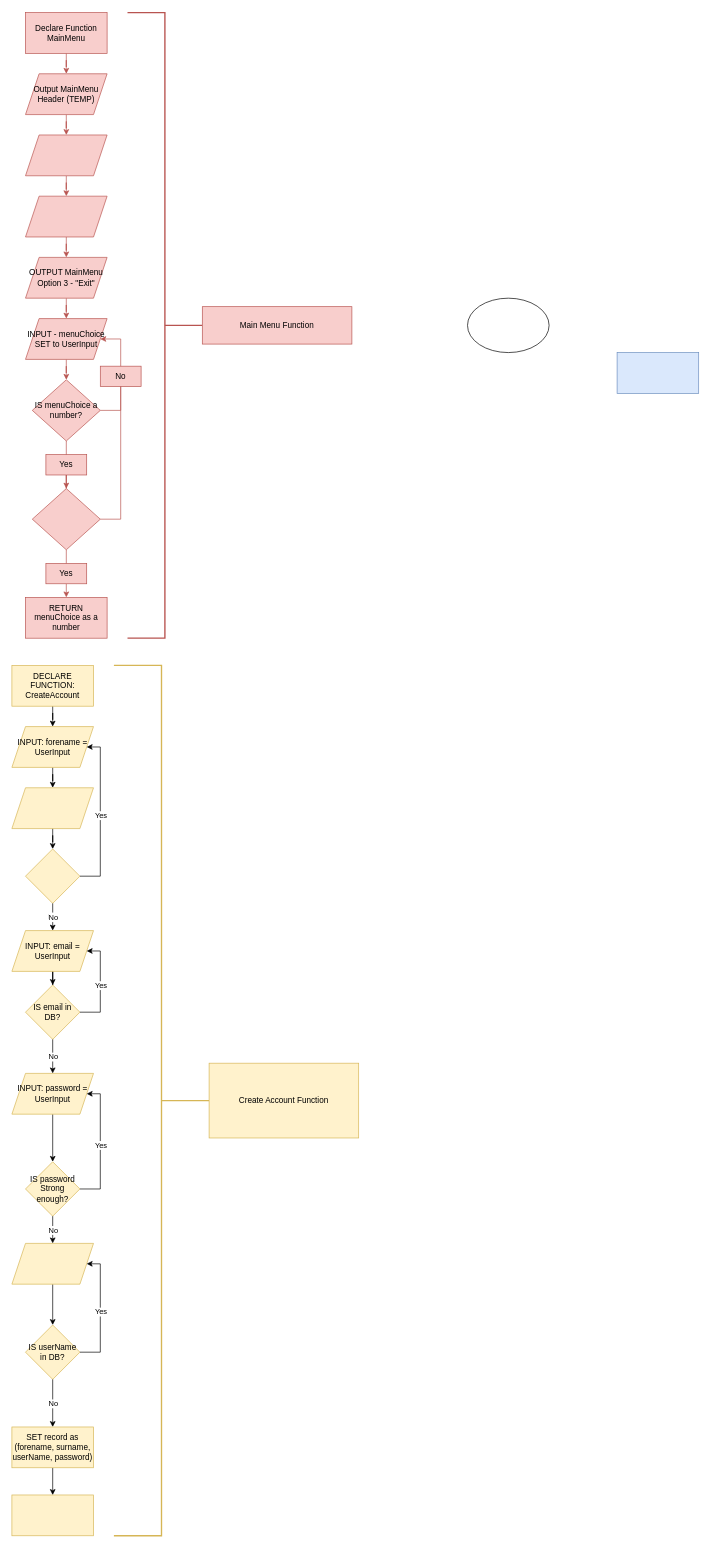
The diagram is 711 pixels wide and 1548 high, and some of its shapes have lost their labels. Each missing label, with the centre of its shape:
DECLARE FUNCTION: MenuPathway: the point at 657,372
INPUT: surname = UserInput: the point at 52,808
INPUT: userName = UserInput: the point at 52,1263
Insert record into DB: the point at 52,1515
IS forename + surname in DB: the point at 52,875
IS menuChoice in the range of accepted options i.e 1 - 4: the point at 66,519
OUTPUT MainMenu Option 1 - "Login": the point at 66,155
OUTPUT MainMenu Option 2 - "Create Account": the point at 66,216
Start: the point at 508,325
